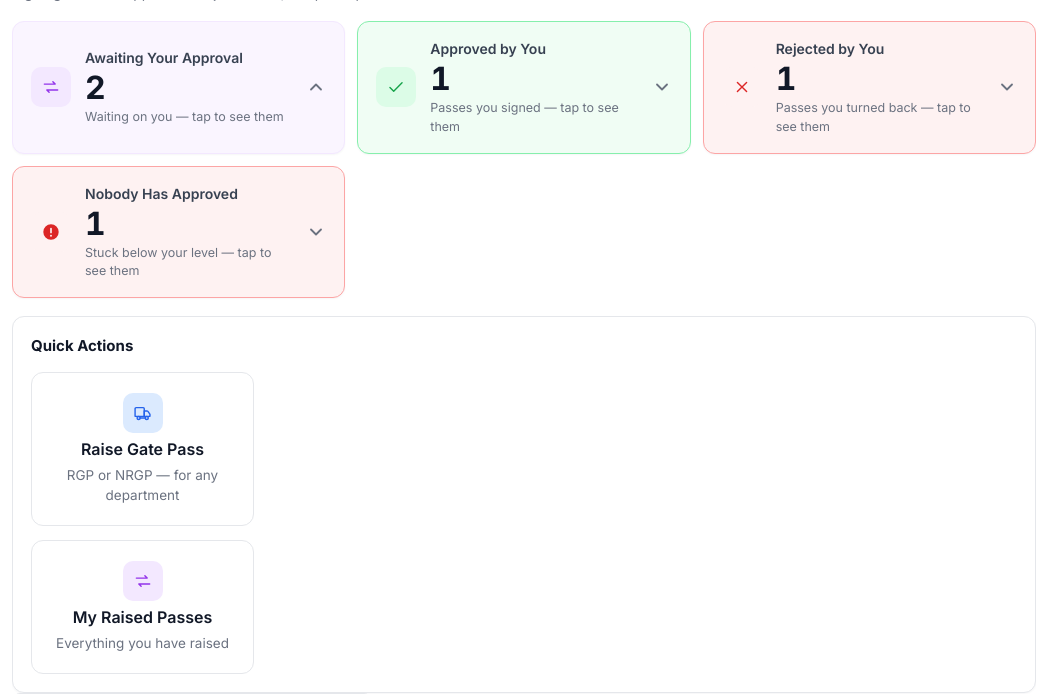
Test: What this office holder has already decided › drills into the approved stack, in the same card format
Click the text "Approved by You" at (488, 48), box [430, 40, 546, 57]
(page scrolled)
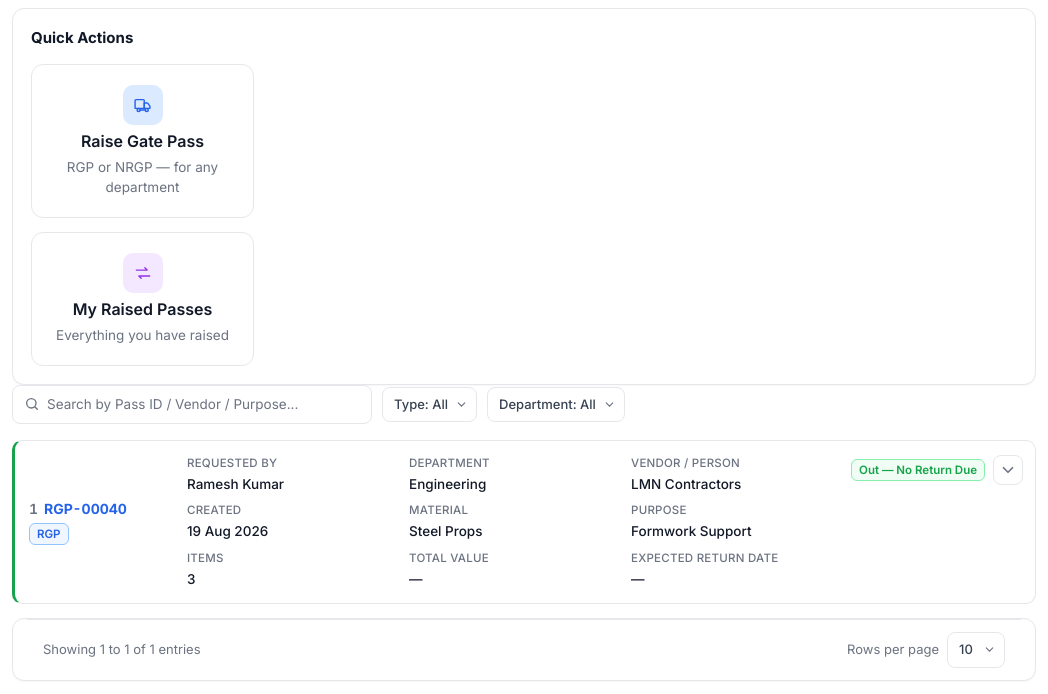
Now the text "RGP-00040" is shown, box [44, 500, 127, 517]
Now the number of list items with test id "pass-stack-card" is 1, box [12, 440, 1036, 604]
